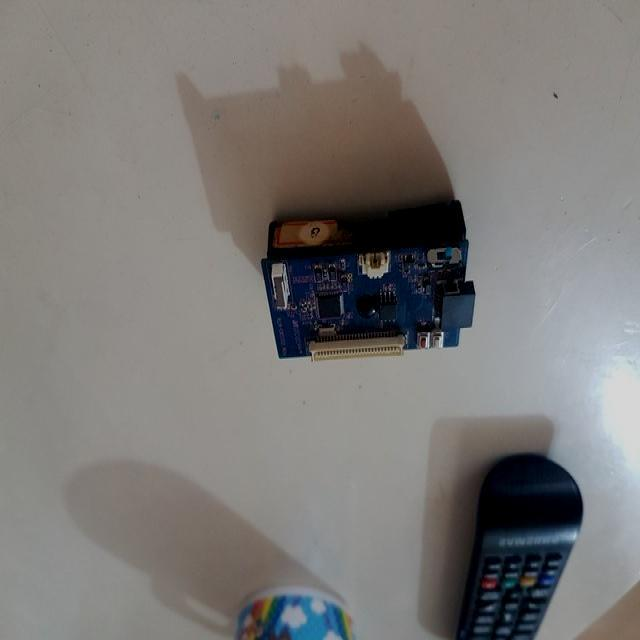TelosB: (262, 199, 475, 360)
